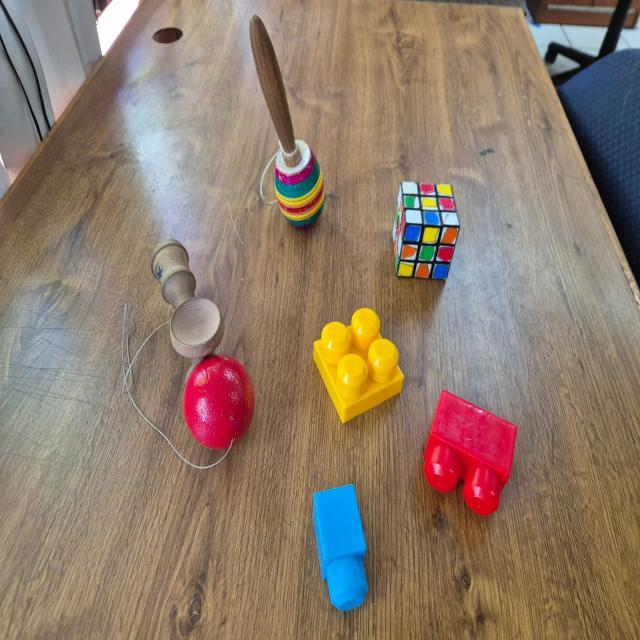balero: (247, 12, 327, 230)
balero ball: (117, 236, 257, 479)
lego 2: (420, 389, 518, 511)
lego 4: (311, 303, 406, 422)
lego_1: (312, 483, 367, 612)
rubick: (387, 182, 464, 282)
